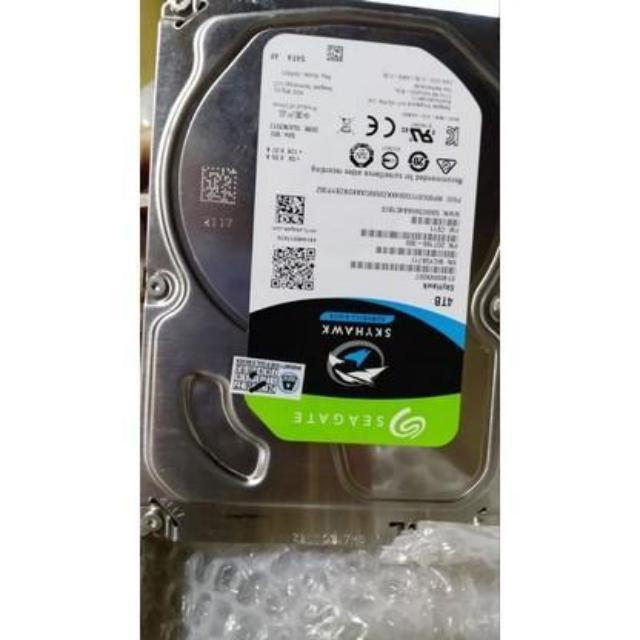DISK: (138, 0, 504, 555)
